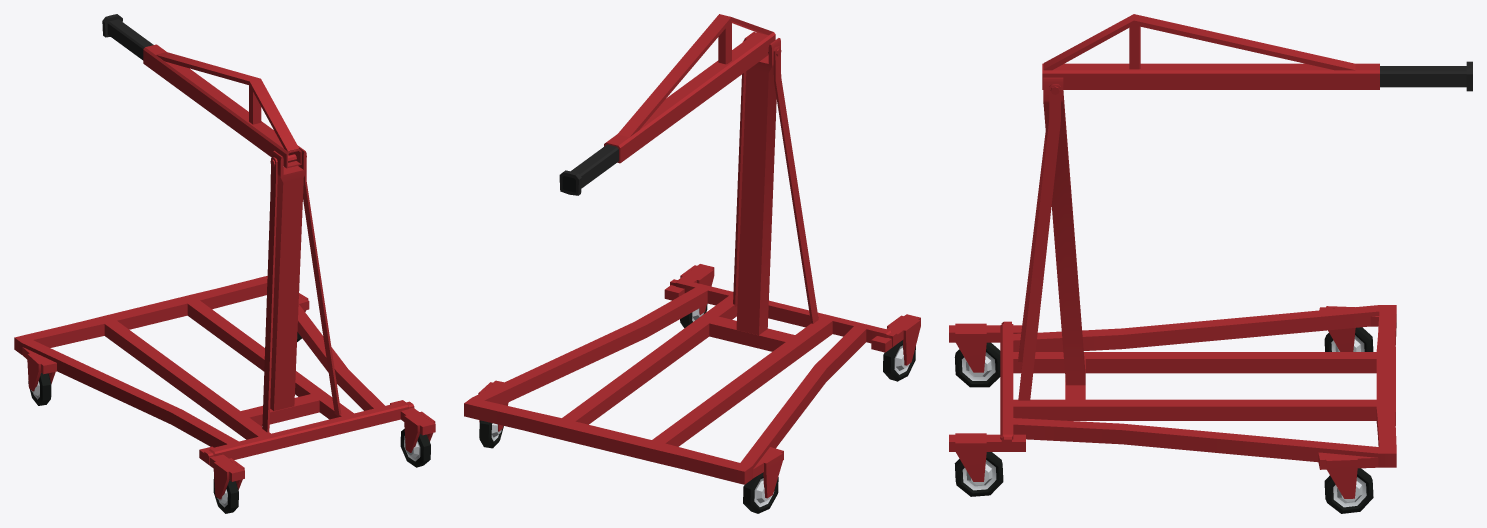
The model's file is SM_rolling_holder_construct.fbx.
The picture shows the model from 3 angles, left to right: view 1: azimuth 30°, elevation 25°; view 2: azimuth 150°, elevation 25°; view 3: azimuth 270°, elevation 25°; orthographic projection. The views are drawn at different scales.
Visible parts, largest first — view 1: rolling_holder_construct; view 2: rolling_holder_construct; view 3: rolling_holder_construct.
Part boxes in pixels (x1=…): rolling_holder_construct: x1=14, y1=14, x2=435, y2=513; rolling_holder_construct: x1=464, y1=14, x2=920, y2=513; rolling_holder_construct: x1=949, y1=14, x2=1472, y2=513.
Size of the model in its own units: 180 by 228 by 257.
